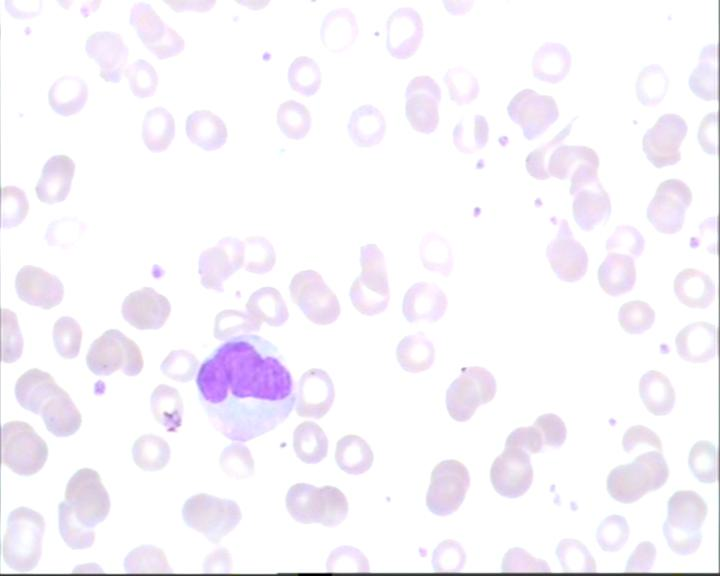mono: (194, 331, 301, 444)
